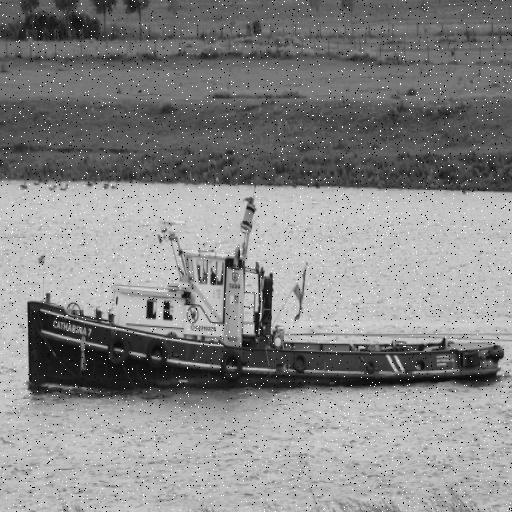tugboat: (24, 196, 512, 413)
